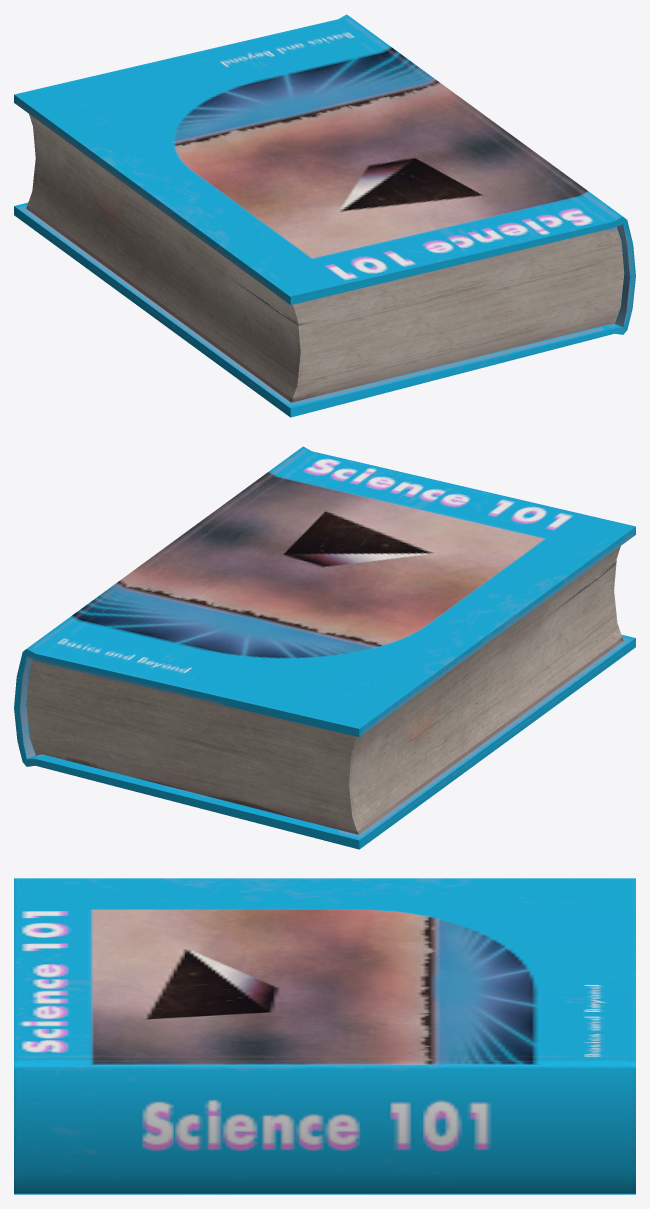
Rendered from SM_Books_03d.fbx.
3 views of the same model, one above another, from view 1: azimuth 30°, elevation 25°; view 2: azimuth 150°, elevation 25°; view 3: azimuth 270°, elevation 25° (orthographic). The views are drawn at different scales.
Parts seen in each view (by area): view 1: SM_Books_03d_LOD0; view 2: SM_Books_03d_LOD0; view 3: SM_Books_03d_LOD0.
Part boxes in pixels (x1,y1,x2,y2): SM_Books_03d_LOD0: (14,14,635,417); SM_Books_03d_LOD0: (14,446,635,849); SM_Books_03d_LOD0: (14,878,635,1194).
Size of the model in its own units: 17.58 by 24.38 by 5.87.
Materials: 1 (1 with a texture image).
